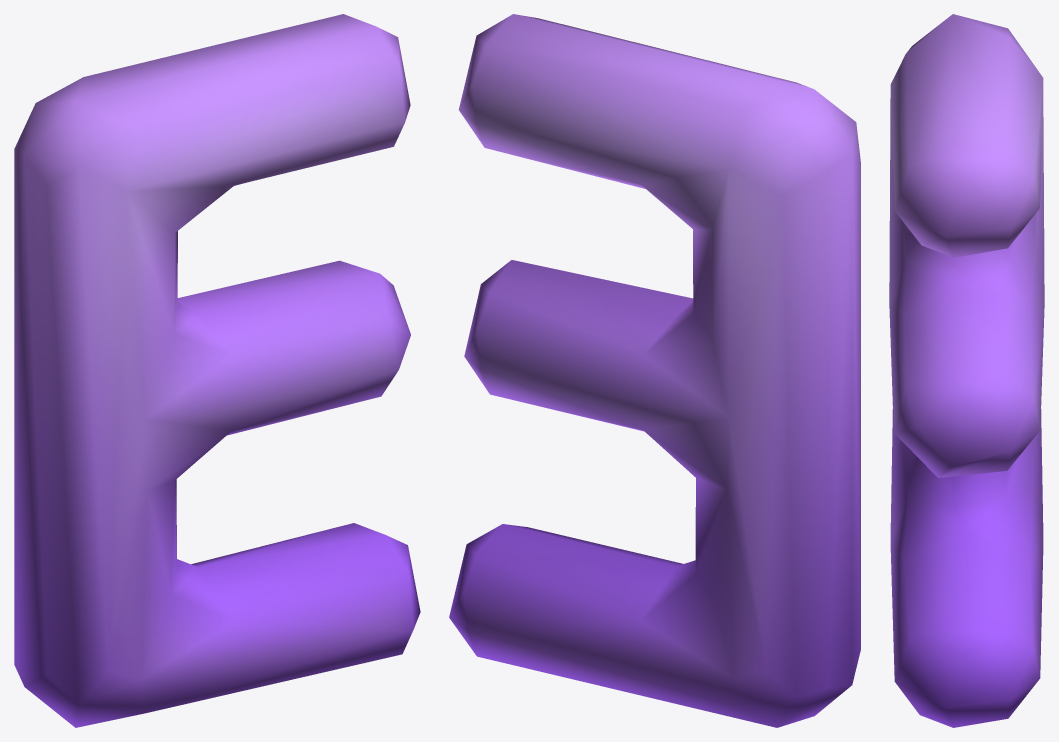
3 views of the same model, side by side, from view 1: azimuth 30°, elevation 25°; view 2: azimuth 150°, elevation 25°; view 3: azimuth 270°, elevation 25° (orthographic). The views are drawn at different scales.
Visible parts, largest first — view 1: Processed_Mesh0_Geometry; view 2: Processed_Mesh0_Geometry; view 3: Processed_Mesh0_Geometry.
Part boxes in pixels (x1=…): Processed_Mesh0_Geometry: x1=14, y1=14, x2=420, y2=727; Processed_Mesh0_Geometry: x1=449, y1=14, x2=860, y2=727; Processed_Mesh0_Geometry: x1=889, y1=14, x2=1044, y2=727.
Size of what is drawn, in the model's own units: 0.0528 by 0.0825 by 0.0201.
Materials: 1 (1 with a texture image).
